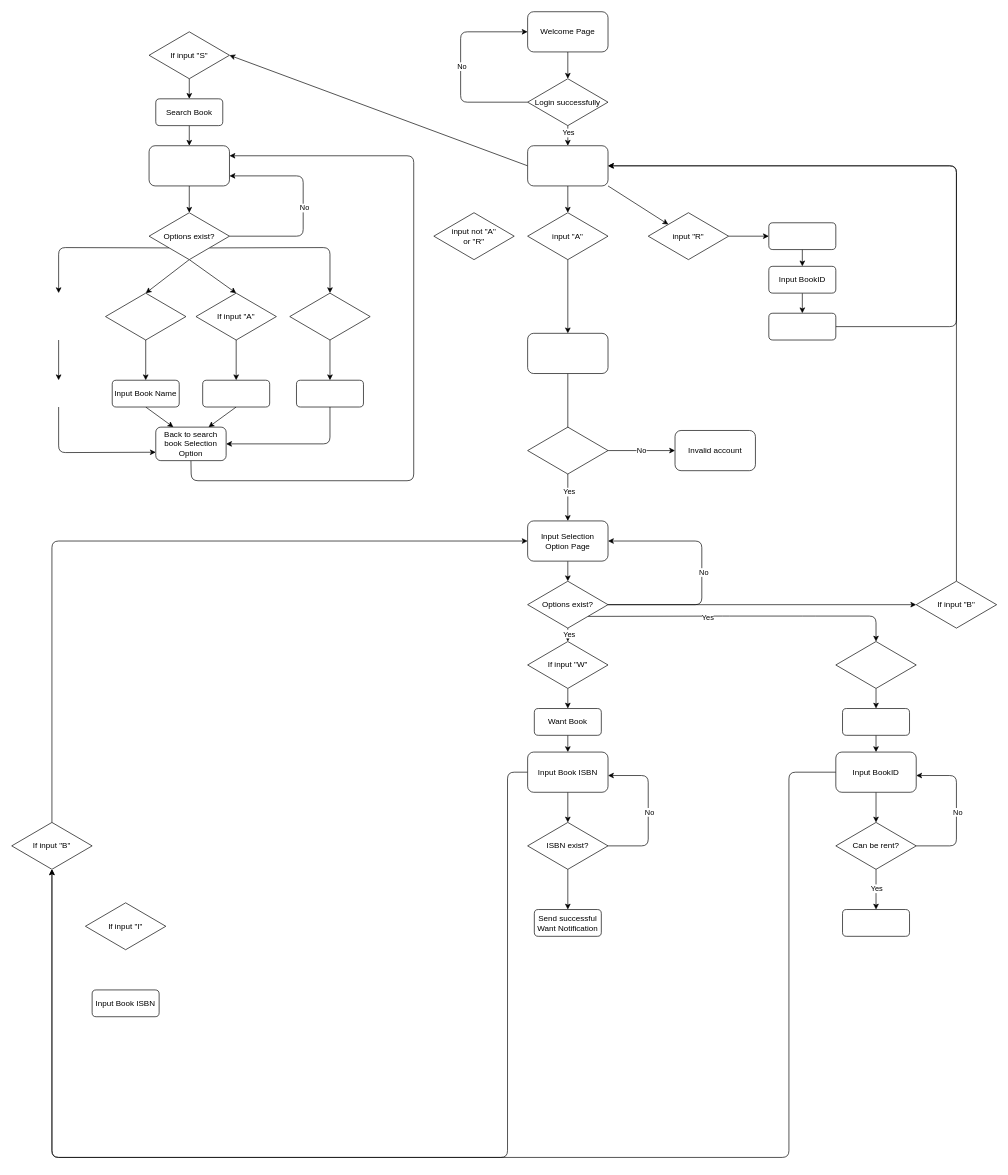
Some shapes in this 1008 by 1175 pixel diagram are drawn without their labels. The box of each missing label's shape, as (x1, y1, x2, y2) in pixels:
Account status activite?: (527, 426, 608, 474)
If input "C": (289, 292, 370, 340)
If input "N": (105, 292, 186, 340)
If input "R": (835, 641, 916, 688)
Input Book Author: (202, 380, 270, 407)
Input Book Category: (296, 380, 363, 407)
Input Selection Option: (148, 145, 229, 186)
Input User Account ID: (527, 333, 608, 374)
Main Page: (527, 145, 608, 186)
Rent Book: (842, 708, 910, 735)
Return Book: (768, 222, 836, 250)
Send successful Rent Notification: (842, 909, 910, 936)
Successful Return: (768, 313, 836, 340)
